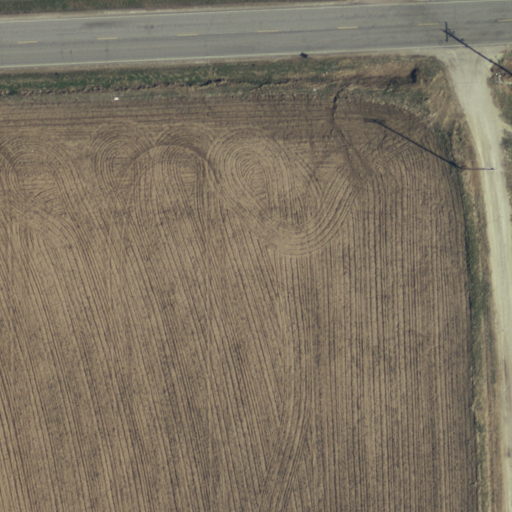DT: (453, 155, 496, 183)
